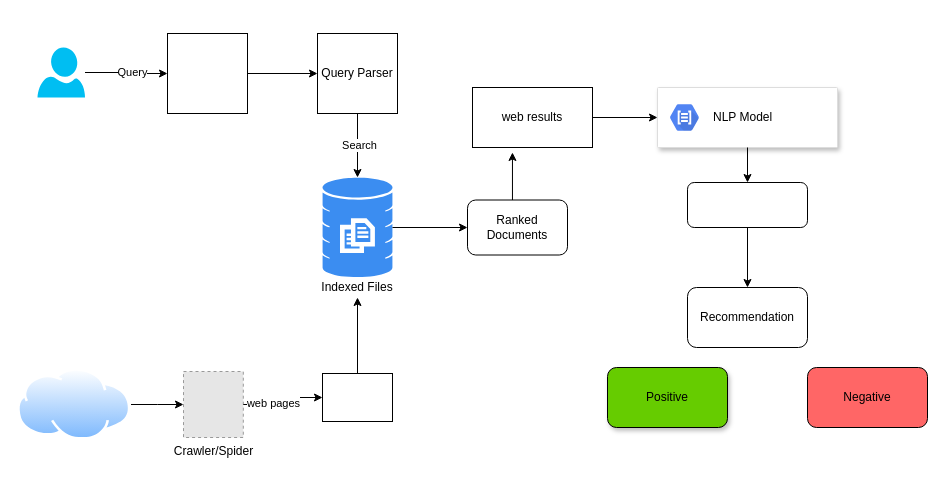
This 945x481 diagram has some shape labels left out. Grey dashed boxes stand in for pictures. Here are the shapes that lost their labels. From the top down, the centre of each, then its label:
At (x=207, y=73): "Search Engine Interface".
At (x=747, y=205): "Sentiment Analysis".
At (x=73, y=404): "WWW".
At (x=357, y=397): "Indexer".
